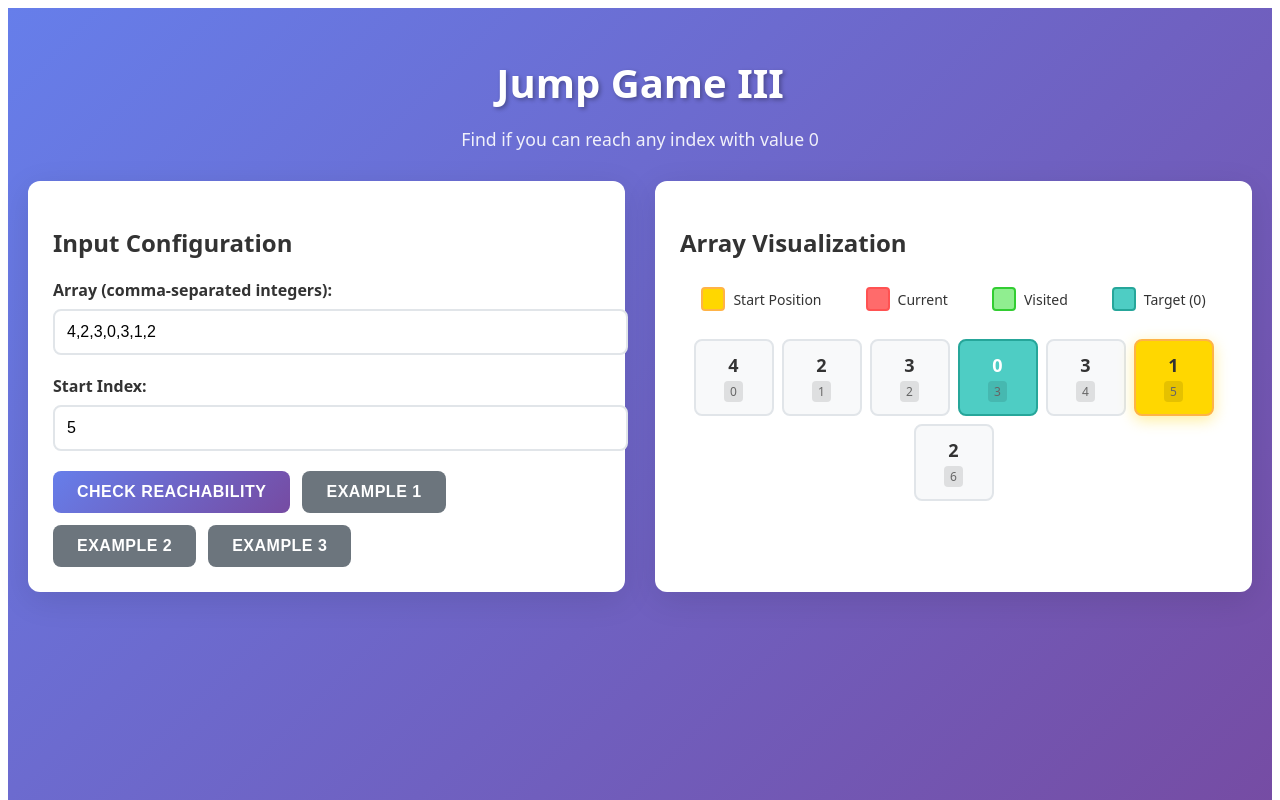
Test case: JumpGame Component › loads example 2 correctly
Click the button with test id "example2-btn" at x=125, y=546, box x1=53 y1=525 x2=196 y2=567
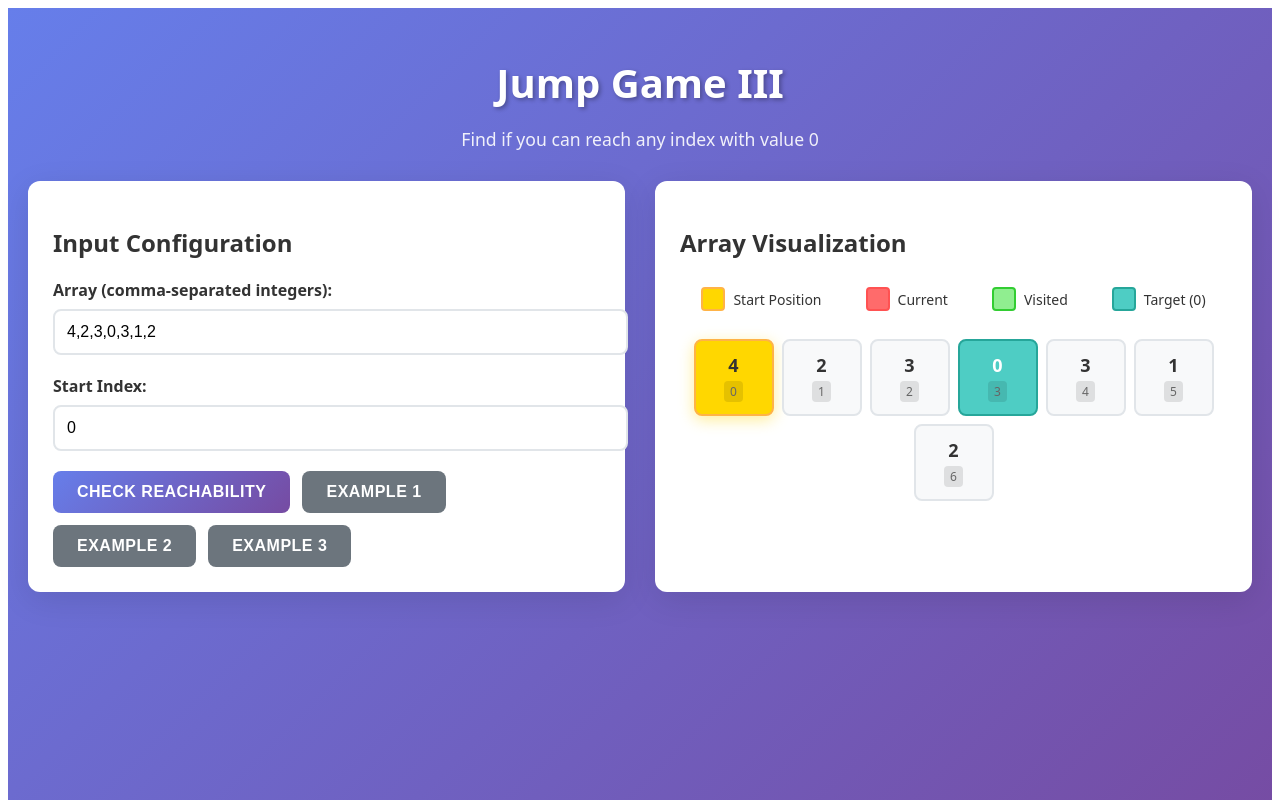
expect the field with test id "array-input" holds "4,2,3,0,3,1,2": met, box x1=53 y1=309 x2=628 y2=355
expect the number field with test id "start-input" holds "0": met, box x1=53 y1=405 x2=628 y2=451
